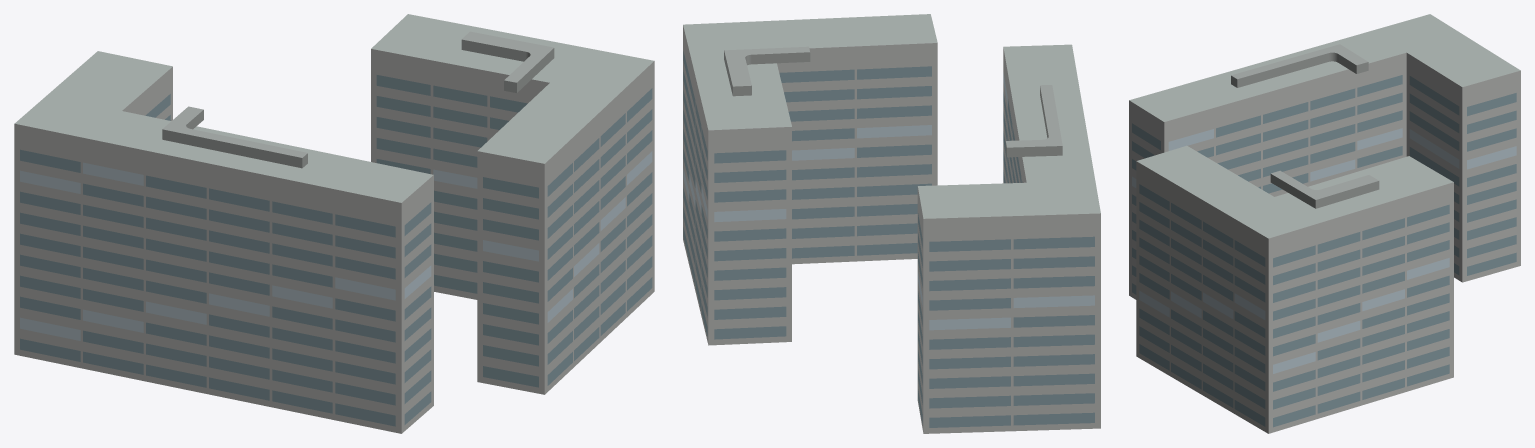
File: apt-a14319002.glb
3 views of the same model, side by side, from view 1: azimuth 30°, elevation 25°; view 2: azimuth 150°, elevation 25°; view 3: azimuth 270°, elevation 25° (orthographic). The views are drawn at different scales.
Visible parts, largest first — view 1: apt-a14319002; view 2: apt-a14319002; view 3: apt-a14319002.
Boxes of the visible parts, bbox=[...] form: apt-a14319002: bbox=[14, 14, 654, 433]; apt-a14319002: bbox=[683, 14, 1100, 433]; apt-a14319002: bbox=[1129, 14, 1520, 433].
Bounding box in the file's own units: 82.75 × 35.06 × 60.99.
